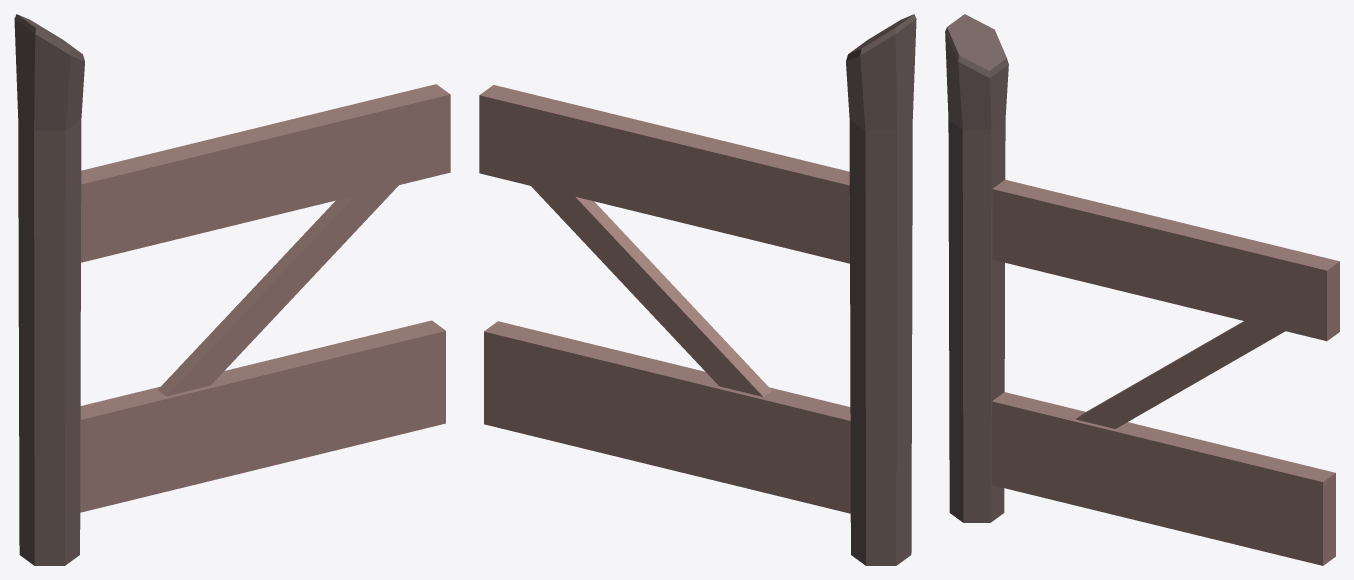
Rendered from fence4.fbx.
3 renders of one model, left to right at view 1: azimuth 30°, elevation 25°; view 2: azimuth 150°, elevation 25°; view 3: azimuth 330°, elevation 25°, orthographic. The views are drawn at different scales.
Parts seen in each view (by area): view 1: Props_fences.003; view 2: Props_fences.003; view 3: Props_fences.003.
Part boxes in pixels (x1=…): Props_fences.003: x1=14, y1=14, x2=450, y2=565; Props_fences.003: x1=479, y1=14, x2=916, y2=565; Props_fences.003: x1=945, y1=14, x2=1339, y2=565.
Bounding box in the file's own units: 128 × 157 × 22.04.
